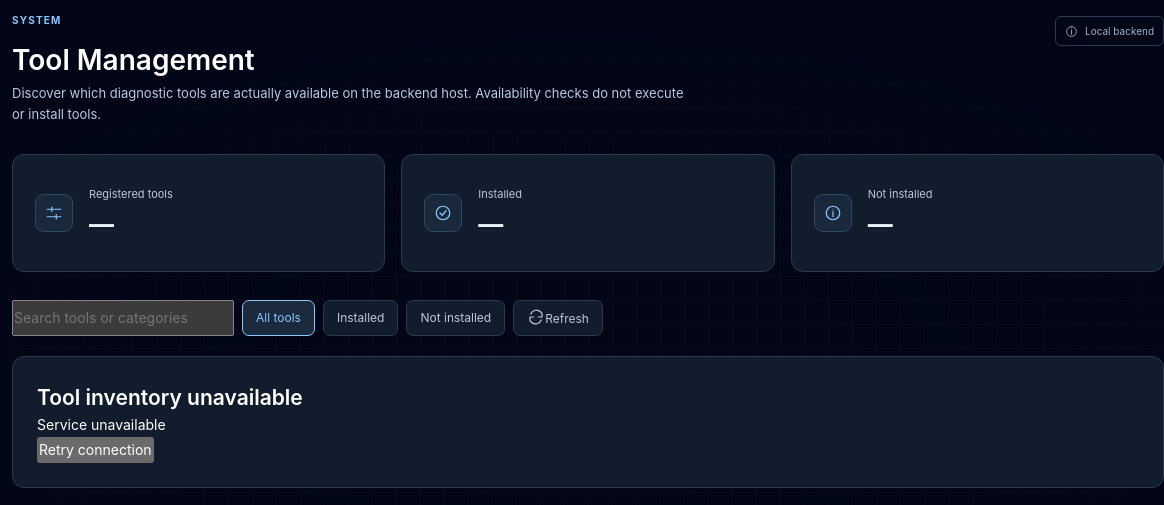
Test: tool report shows backend failure and supports retry without invented records
Check: the message shows "Service unavailable", box top-left (37, 416), bottom-right (166, 434)
What coordinates should you click on to do the following:
click the button "Retry connection"
I would click on:
 (95, 450)
Its box is top-left (37, 437), bottom-right (154, 463).
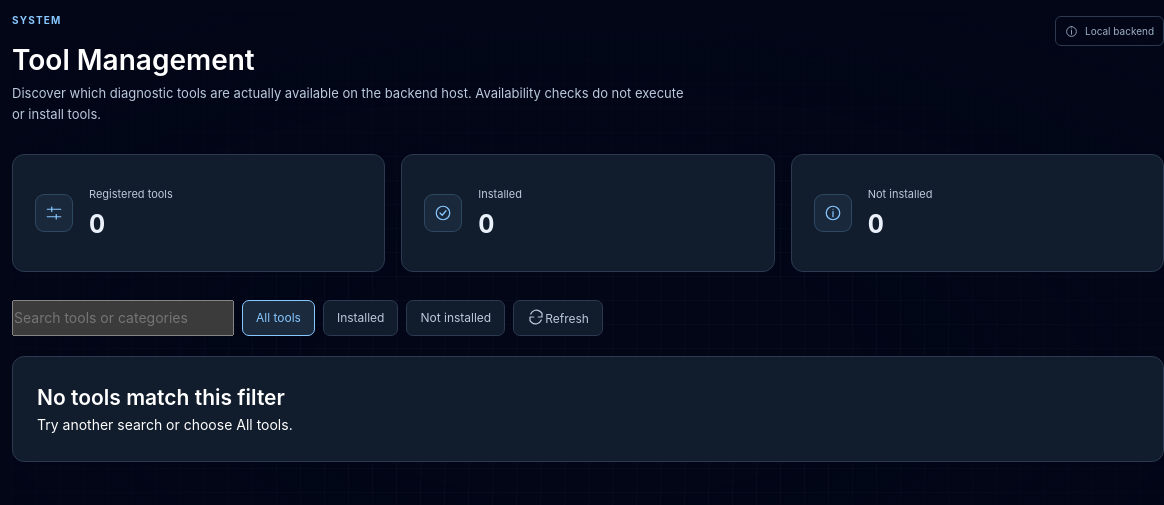
Check: the heading "No tools match this filter" is shown, box top-left (37, 385), bottom-right (285, 410)
Check: the message "Tool inventory unavailable Service unavailable Retry connection" is gone
